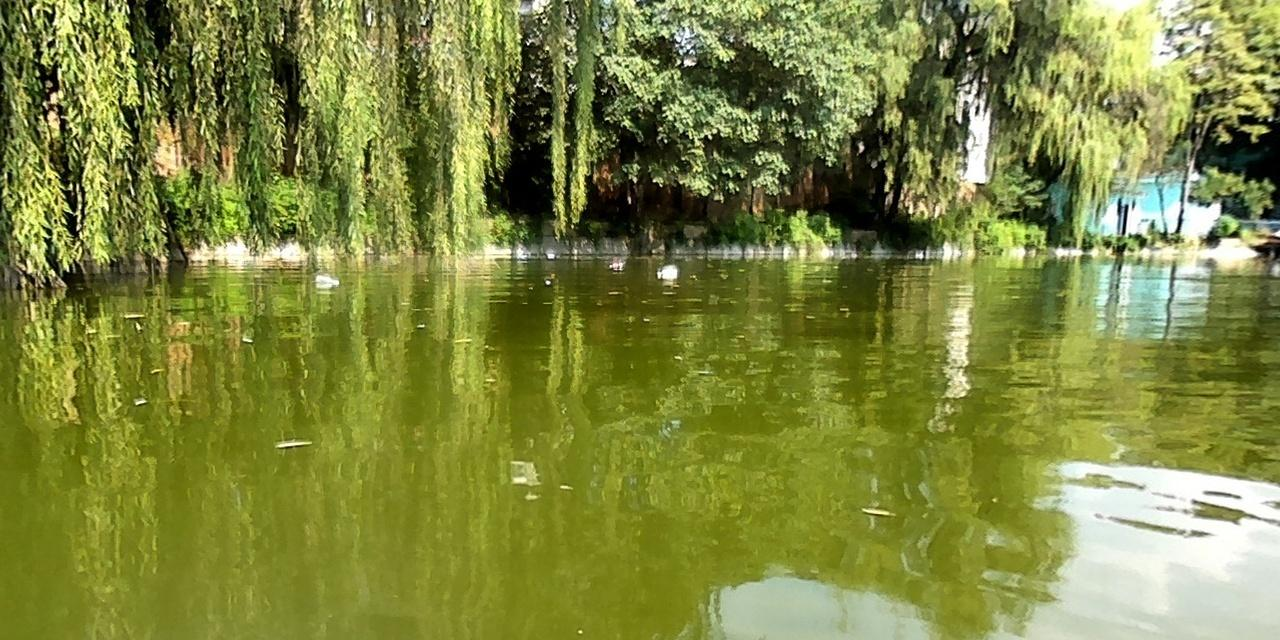bottle: (658, 265, 678, 280), (314, 274, 337, 287), (608, 261, 623, 269)
